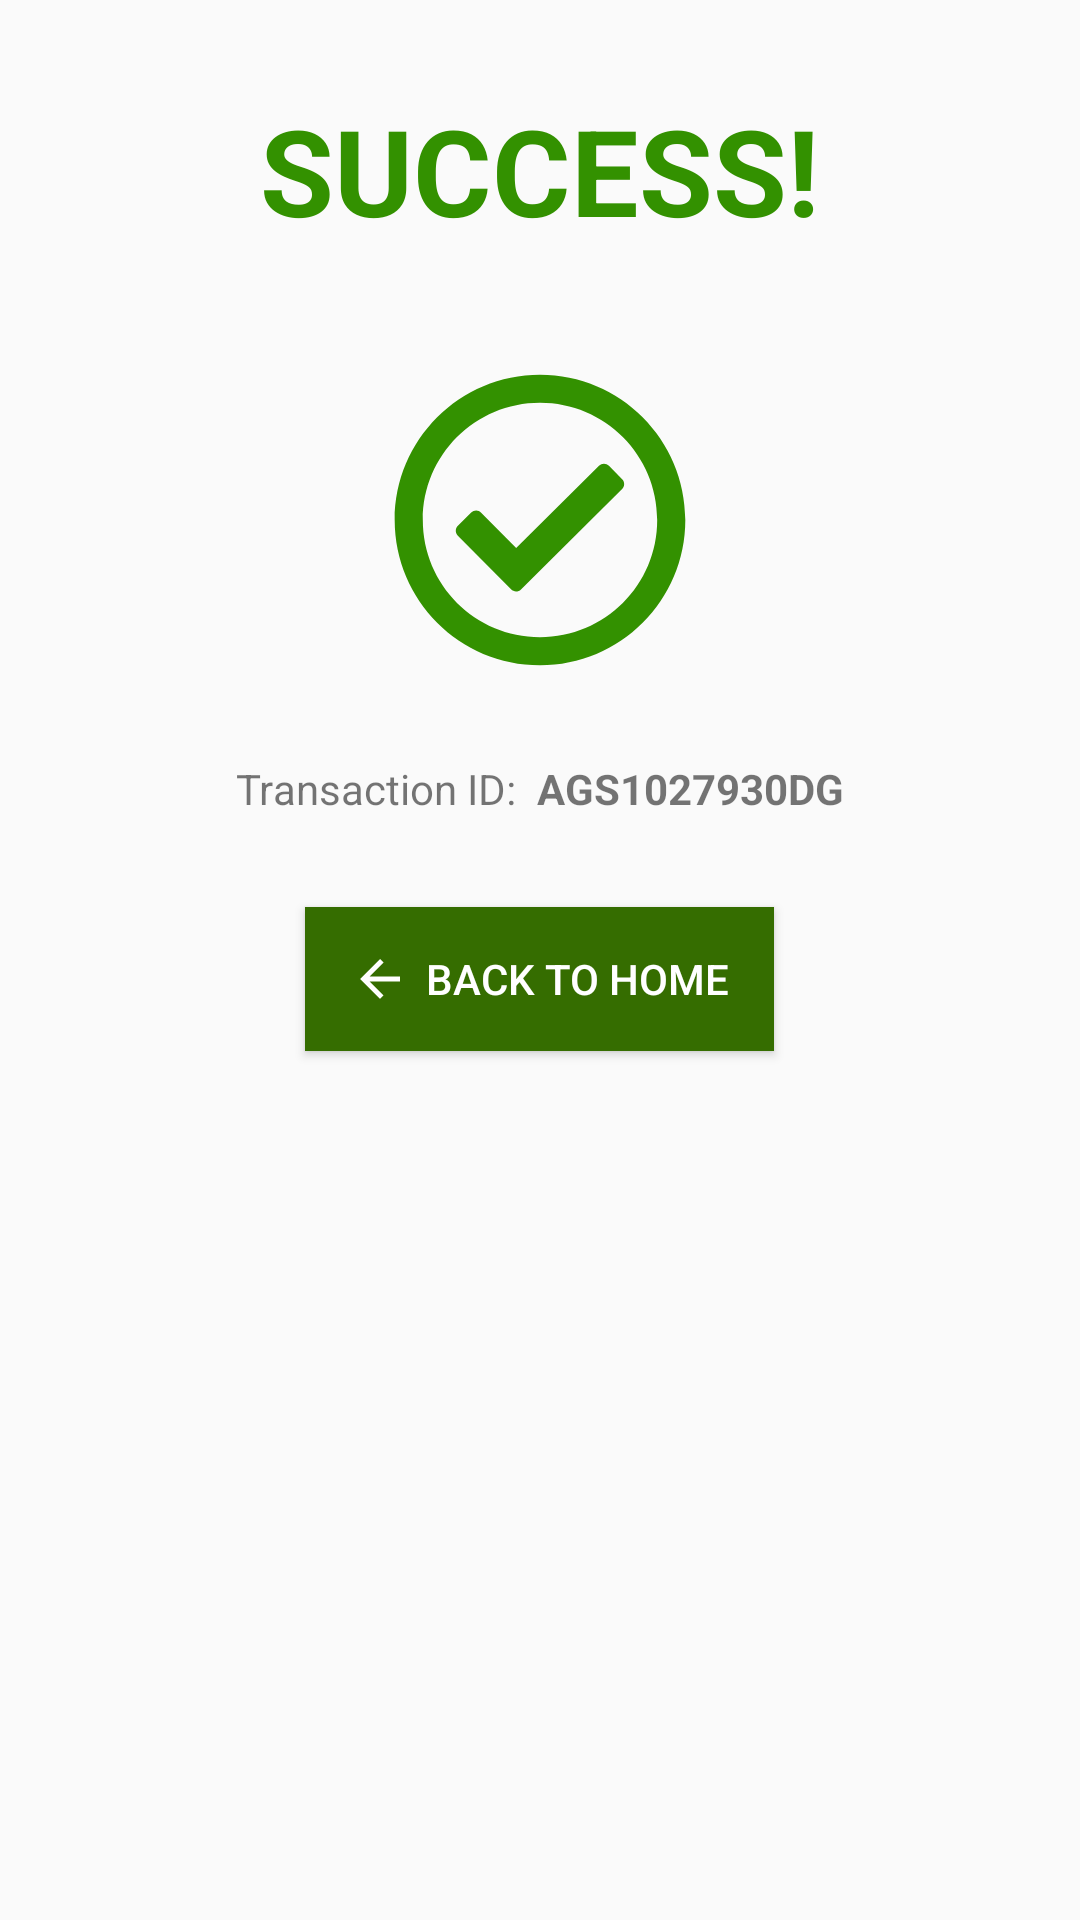

Icon bounding boxes for this 1080×1920 phone screenshot, format {"left": x1, "top": y1, "right": x2, "bottom": y2}:
check circle: {"left": 394, "top": 374, "right": 686, "bottom": 666}
